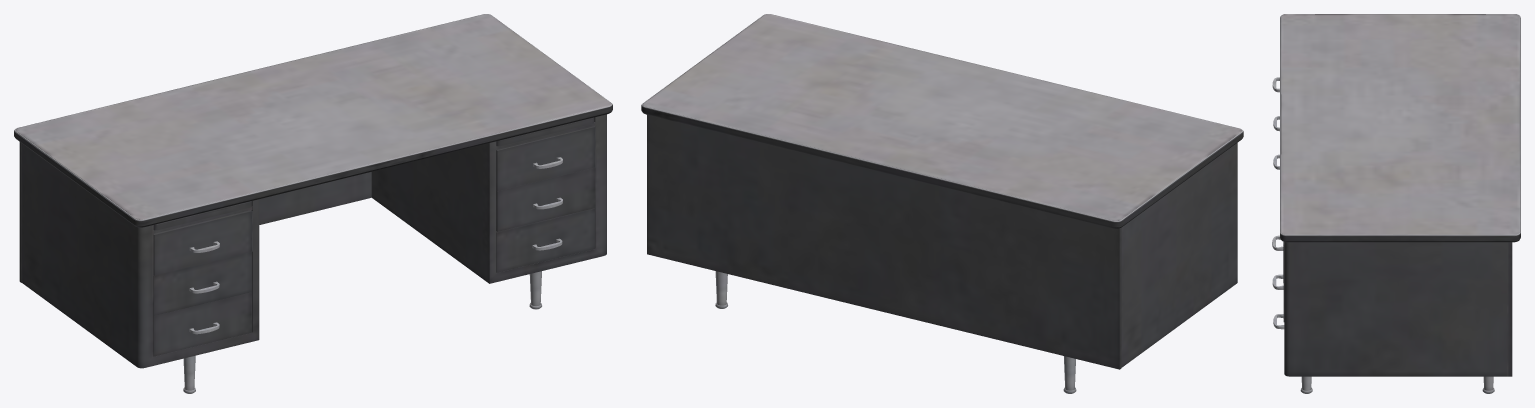
Rendered from lfc_teacher_desk.glb.
3 views of the same model, side by side, from view 1: azimuth 30°, elevation 25°; view 2: azimuth 150°, elevation 25°; view 3: azimuth 270°, elevation 25° (orthographic). The views are drawn at different scales.
Visible parts, largest first — view 1: metal_office_desk, metal_office_desk_drawer_04, metal_office_desk_drawer_01, metal_office_desk_drawer_02, metal_office_desk_drawer_03, metal_office_desk_drawer_06, metal_office_desk_drawer_05, metal_office_desk_tray_01, metal_office_desk_tray_02; view 2: metal_office_desk; view 3: metal_office_desk.
Part boxes in pixels (x1=…): metal_office_desk: x1=14, y1=14, x2=612, y2=393; metal_office_desk_drawer_04: x1=153, y1=210, x2=252, y2=275; metal_office_desk_drawer_01: x1=496, y1=126, x2=595, y2=191; metal_office_desk_drawer_02: x1=496, y1=167, x2=595, y2=231; metal_office_desk_drawer_03: x1=496, y1=208, x2=594, y2=272; metal_office_desk_drawer_06: x1=153, y1=292, x2=251, y2=356; metal_office_desk_drawer_05: x1=153, y1=252, x2=251, y2=315; metal_office_desk_tray_01: x1=153, y1=201, x2=251, y2=230; metal_office_desk_tray_02: x1=496, y1=117, x2=594, y2=146; metal_office_desk: x1=641, y1=14, x2=1243, y2=393; metal_office_desk: x1=1280, y1=14, x2=1520, y2=393.
Bounding box in the file's own units: 2 × 0.7875 × 0.9472.
Materials: 1 (1 with a texture image).
